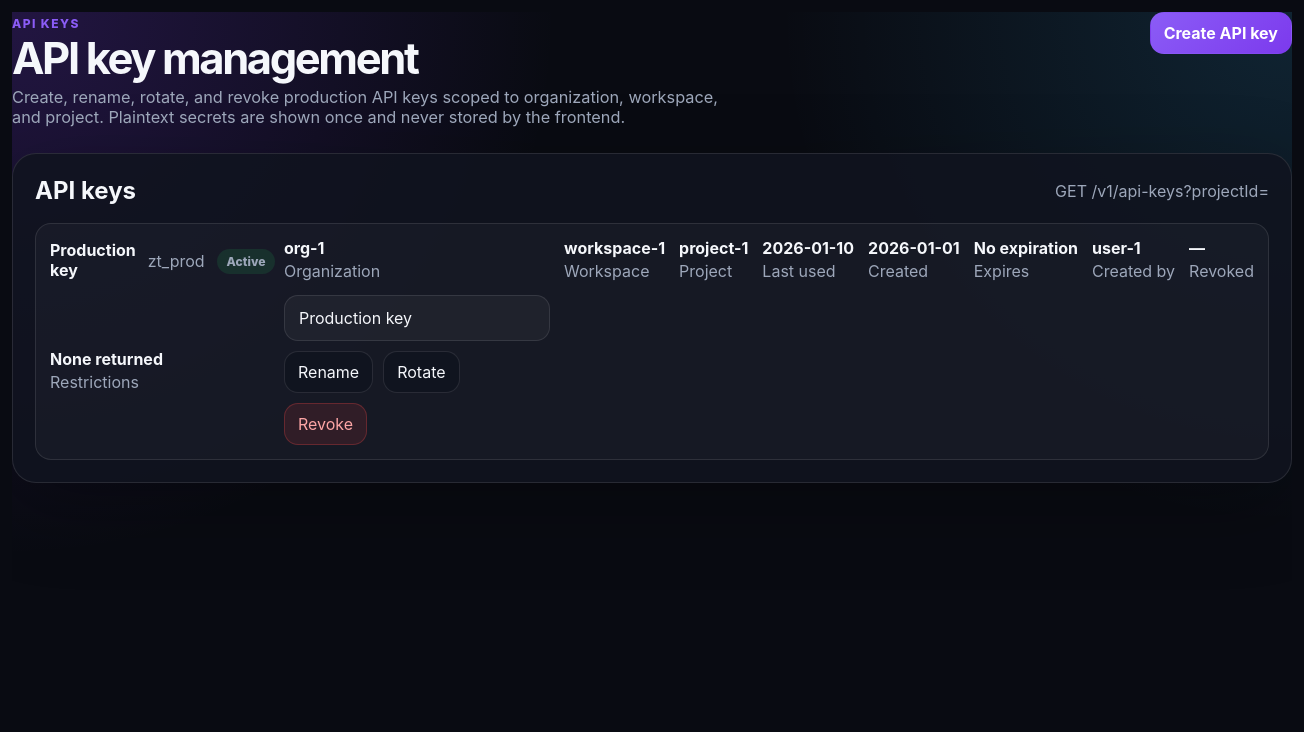
Test case: ApiPortal production API-key UX › requires confirmation before revocation and audits via backend revoke
Click the button "Revoke" at [326, 424], box 284,403 -> 367,445
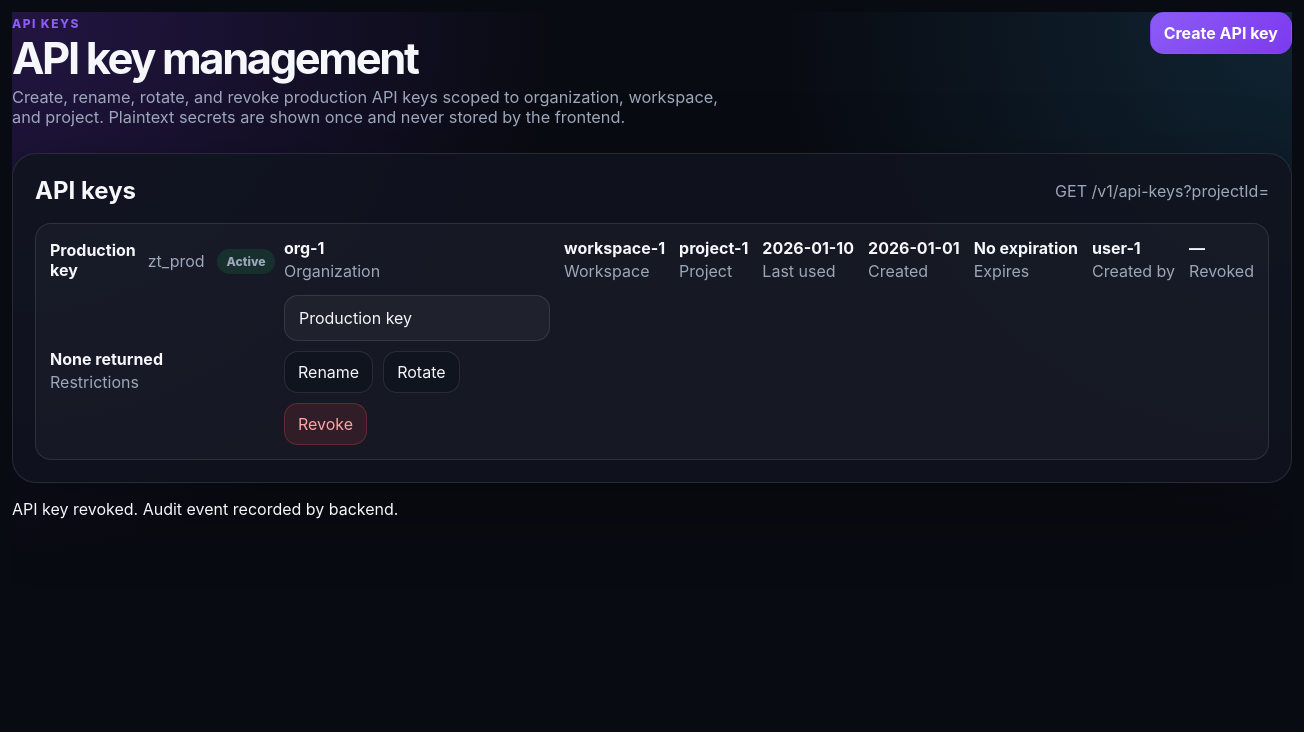
Expected: the text "API key revoked. Audit event recorded by backend." is shown, 12,499 -> 398,519
